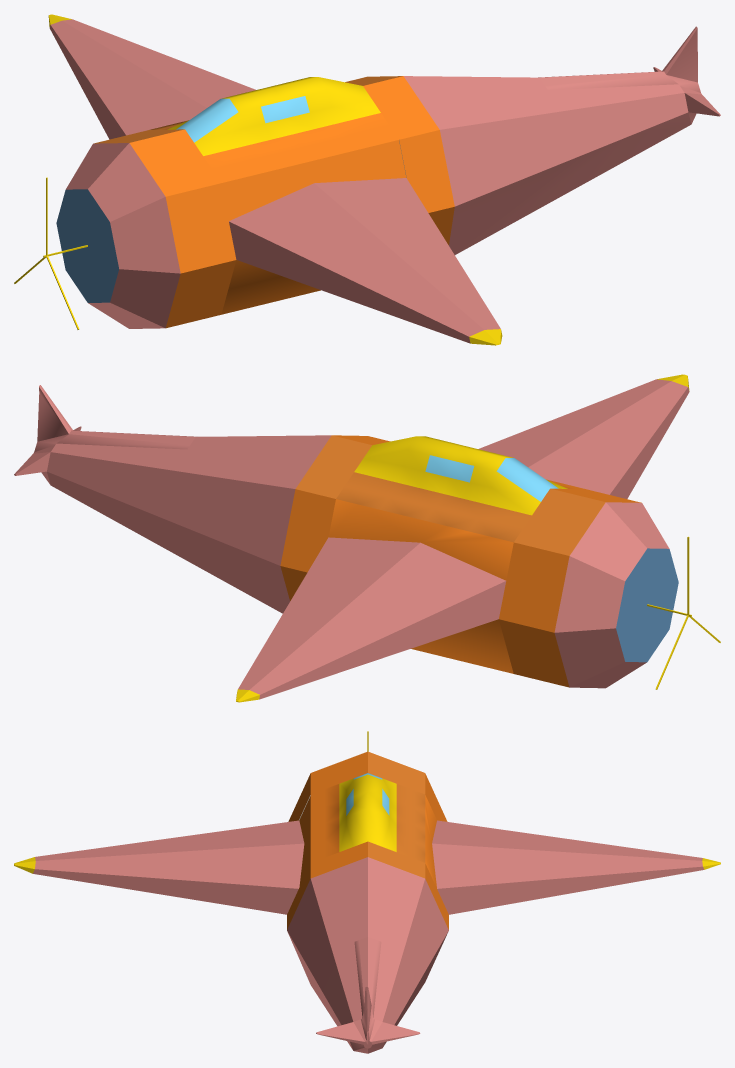
3 views of the same model, one above another, from view 1: azimuth 30°, elevation 25°; view 2: azimuth 150°, elevation 25°; view 3: azimuth 270°, elevation 25° (orthographic). The views are drawn at different scales.
Visible parts, largest first — view 1: Plane Body; view 2: Plane Body; view 3: Plane Body.
Part boxes in pixels (bbox=[...]): Plane Body: bbox=[48, 14, 720, 345]; Plane Body: bbox=[14, 374, 689, 702]; Plane Body: bbox=[14, 751, 720, 1053].
Size of the model in its own units: 3.69 by 1.11 by 4.36.
Materials: 1 (1 with a texture image).
